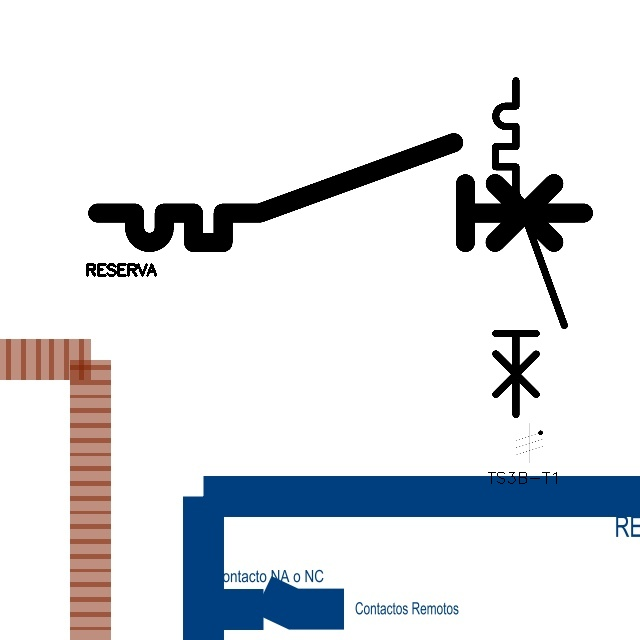interruptor_termomagnetico: (85, 130, 596, 255), (487, 72, 573, 423)
